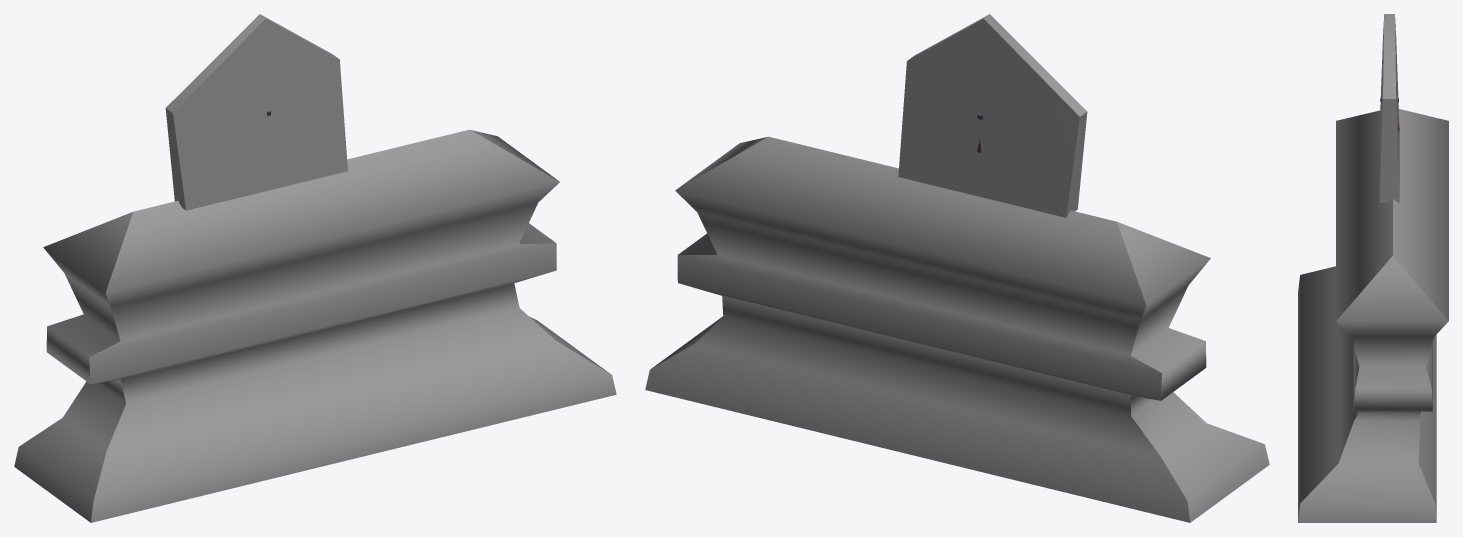
File: fb_jjc_zj_09.FBX
The picture shows the model from 3 angles, left to right: view 1: azimuth 30°, elevation 25°; view 2: azimuth 150°, elevation 25°; view 3: azimuth 270°, elevation 25°; orthographic projection. The views are drawn at different scales.
Visible parts, largest first — view 1: col_fb_jjc_zj_09; view 2: col_fb_jjc_zj_09; view 3: col_fb_jjc_zj_09.
Boxes of the visible parts, left/top/right/bottom form: col_fb_jjc_zj_09: left=14, top=14, right=616, bottom=522; col_fb_jjc_zj_09: left=645, top=14, right=1269, bottom=522; col_fb_jjc_zj_09: left=1298, top=14, right=1448, bottom=522.
Size of the model in its own units: 464 by 350 by 127.
